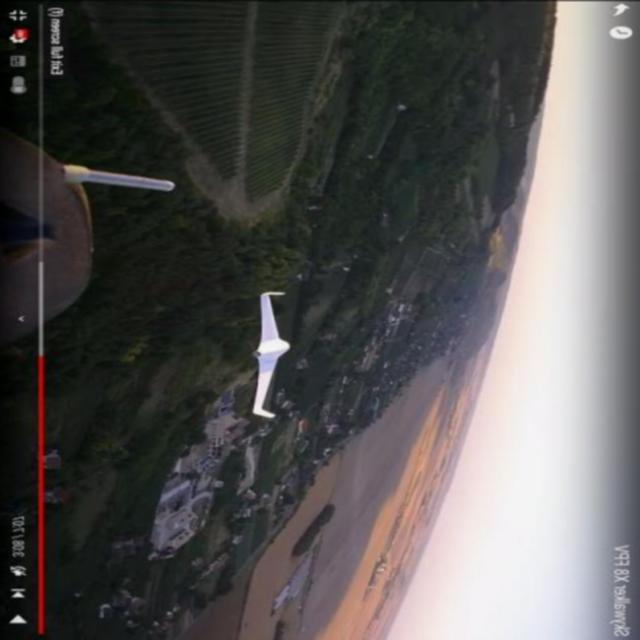plane: (250, 288, 292, 418)
